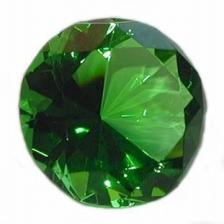green: (19, 18, 207, 208)
